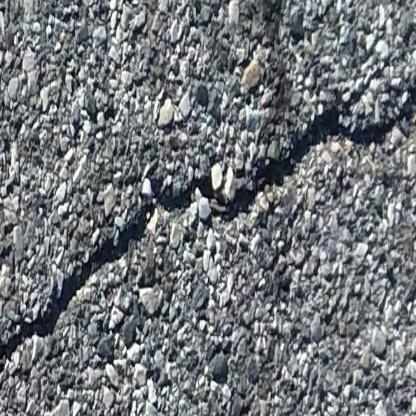Cracks: (0, 77, 416, 307)
